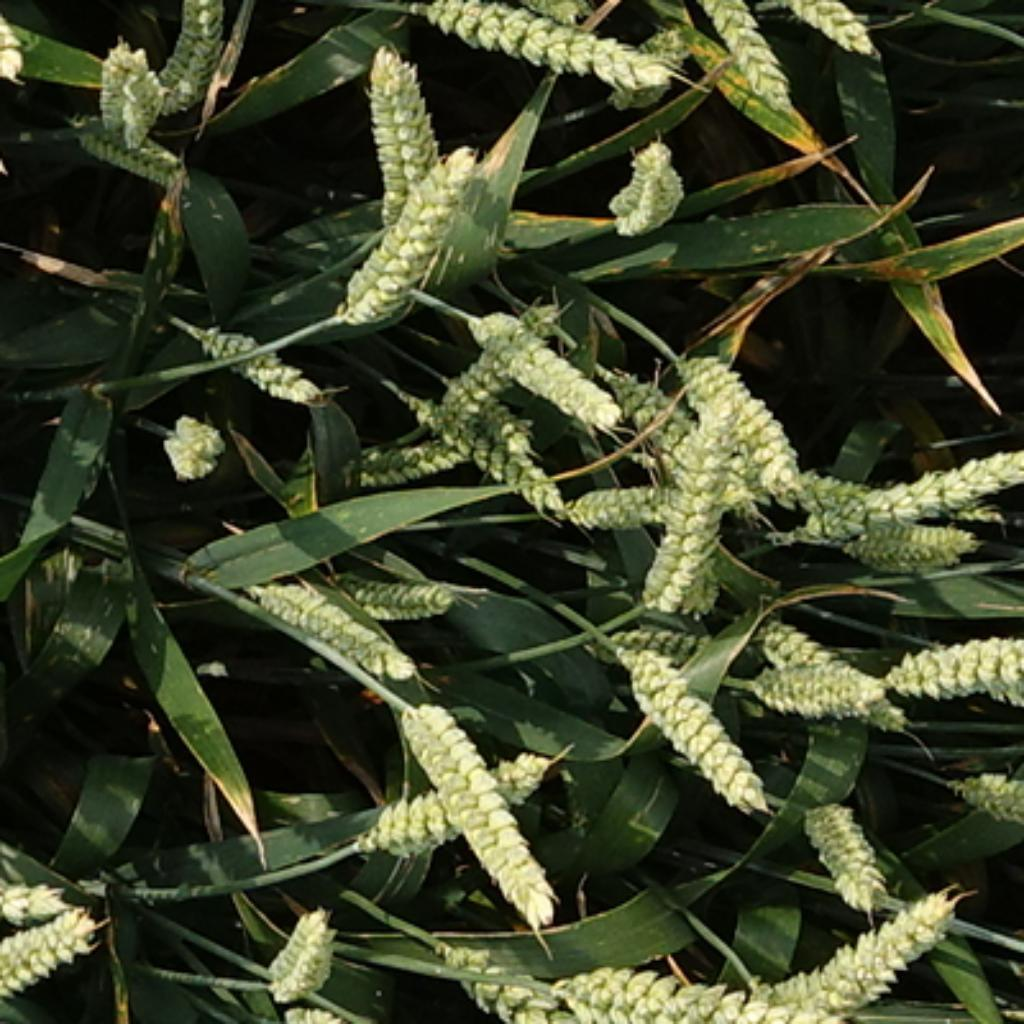0-0: (399, 704, 565, 922), (604, 629, 768, 814), (747, 899, 965, 1024), (640, 386, 755, 614), (775, 442, 1024, 547), (335, 143, 481, 320), (541, 940, 848, 1024), (619, 363, 768, 527), (419, 0, 675, 94), (238, 560, 422, 683), (673, 345, 808, 509), (348, 751, 555, 855), (409, 396, 576, 506), (471, 302, 619, 424), (419, 299, 558, 427), (757, 616, 911, 729), (422, 926, 591, 1024), (358, 35, 440, 230), (186, 302, 325, 404), (785, 468, 1011, 529), (673, 0, 811, 99), (883, 616, 1024, 698), (803, 798, 898, 908), (151, 0, 240, 115), (0, 901, 104, 998), (824, 504, 985, 565), (430, 368, 535, 455), (56, 115, 186, 184), (606, 128, 691, 232), (750, 660, 885, 724), (87, 33, 171, 133), (348, 419, 473, 486), (606, 17, 696, 110), (754, 0, 887, 62), (258, 906, 343, 1003), (322, 560, 463, 616), (576, 624, 729, 663), (0, 848, 72, 924), (159, 411, 230, 483), (563, 486, 696, 524), (949, 762, 1024, 821)
